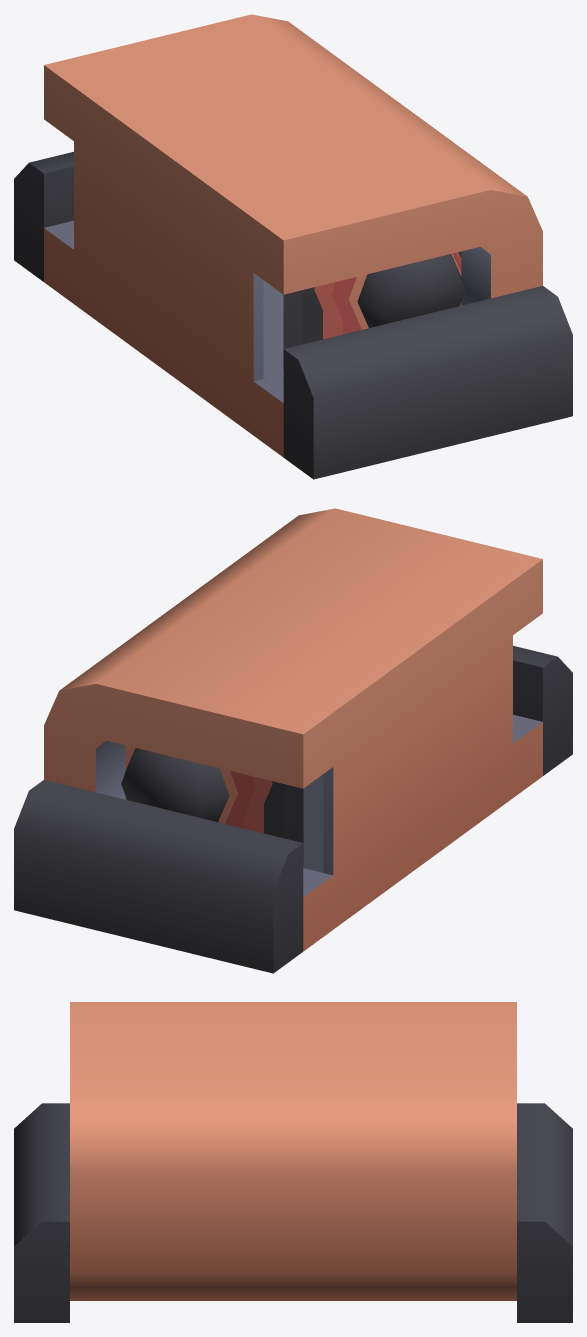
File: conveyor-long-sides-part-end.obj
The picture shows the model from 3 angles, top to bottom: view 1: azimuth 30°, elevation 25°; view 2: azimuth 150°, elevation 25°; view 3: azimuth 270°, elevation 25°; orthographic projection. The views are drawn at different scales.
Visible parts, largest first — view 1: conveyor-long-sides-part-end; view 2: conveyor-long-sides-part-end; view 3: conveyor-long-sides-part-end.
Part boxes in pixels (x1,y1,x2,y2): conveyor-long-sides-part-end: [14, 14, 572, 479]; conveyor-long-sides-part-end: [14, 508, 572, 973]; conveyor-long-sides-part-end: [14, 1002, 572, 1322].
Bounding box in the file's own units: 0.5 × 0.4 × 1.
